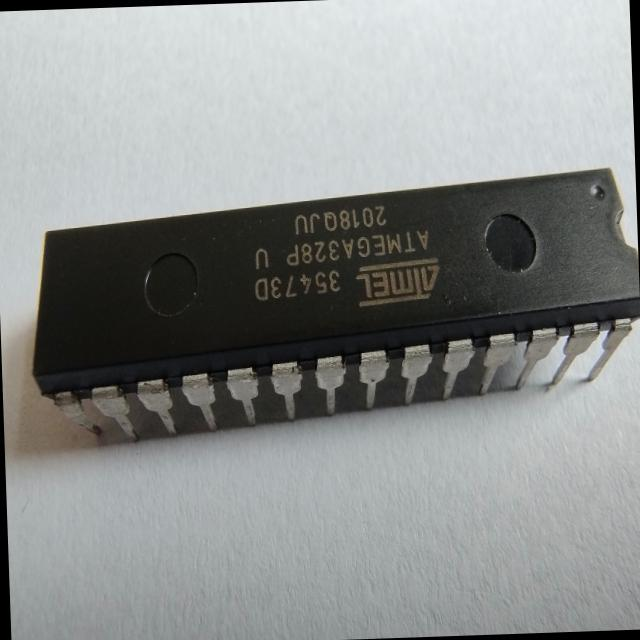atmega: (23, 162, 640, 440)
